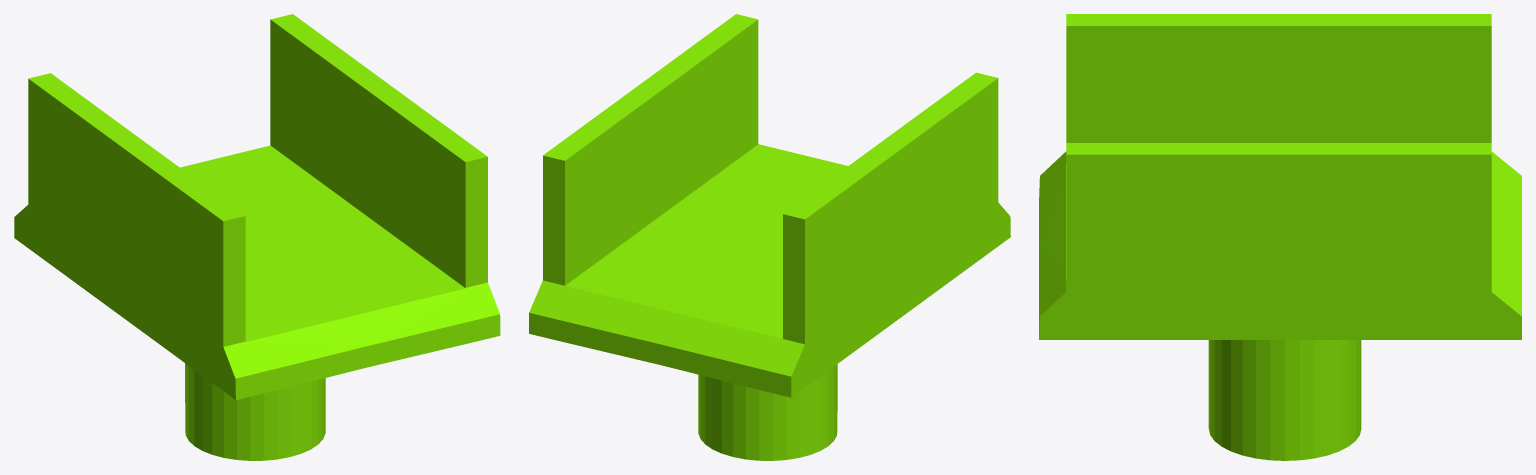
Rendered from Bridge.dae.
3 renders of one model, left to right at view 1: azimuth 30°, elevation 25°; view 2: azimuth 150°, elevation 25°; view 3: azimuth 270°, elevation 25°, orthographic. The views are drawn at different scales.
Visible parts, largest first — view 1: Cube; view 2: Cube; view 3: Cube.
Part boxes in pixels (x1,y1,x2,y2): Cube: [14, 14, 500, 460]; Cube: [529, 14, 1010, 460]; Cube: [1039, 14, 1521, 460].
Bounding box in the file's own units: 43.61 × 49.72 × 63.21.
